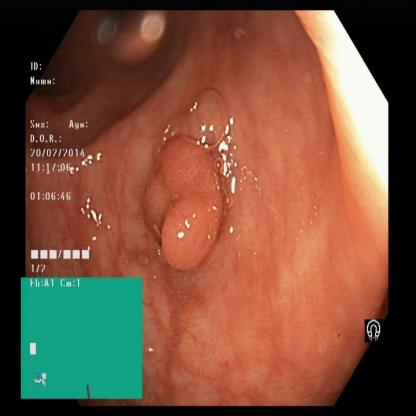Labels: (28, 55, 110, 276), (20, 275, 144, 398)
Polyps: (140, 143, 228, 268)
